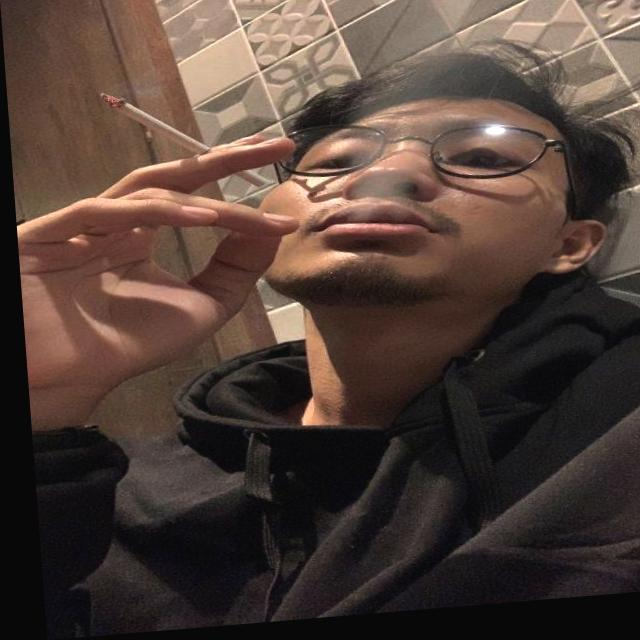cigarette: (99, 83, 268, 199)
